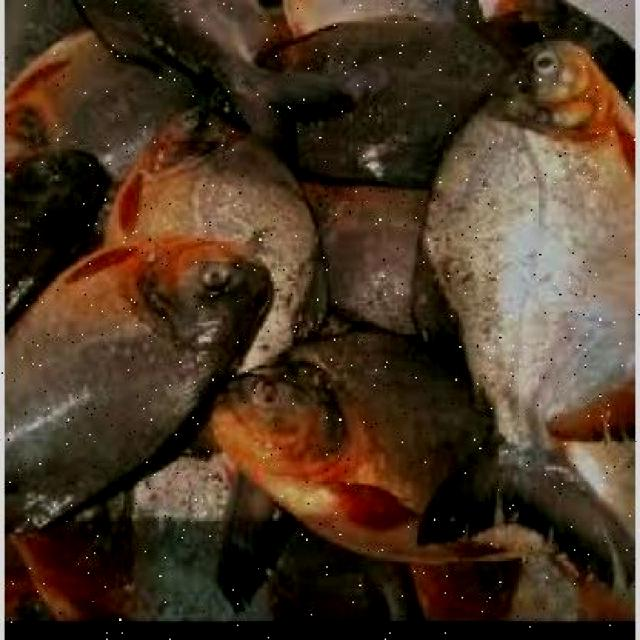ikan-pacu: (442, 33, 638, 441), (8, 232, 276, 516), (216, 328, 504, 564)
